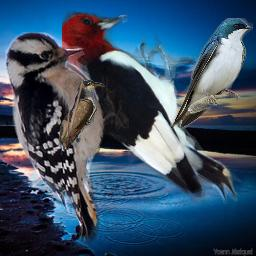Cuckoo: (59, 80, 115, 151)
Swallow: (170, 18, 253, 130)
Woodpecker: (62, 11, 242, 204), (5, 32, 129, 244)
